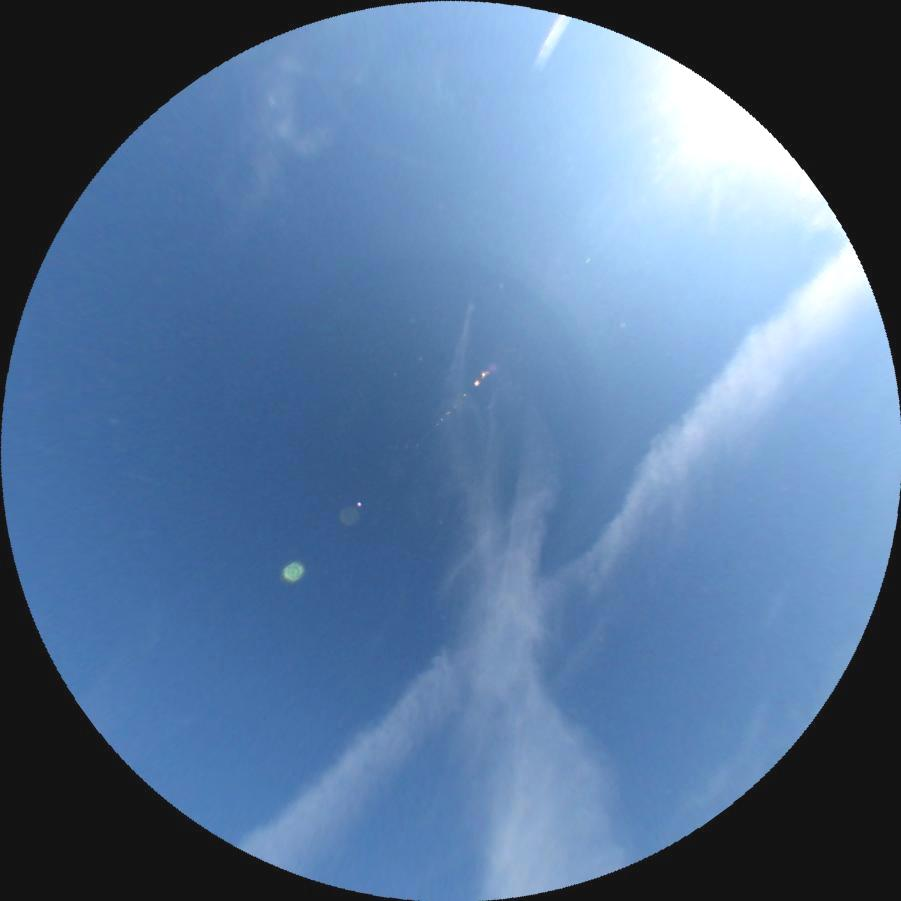contrail veryold: (237, 235, 897, 897)
contrail young: (529, 10, 571, 70)
